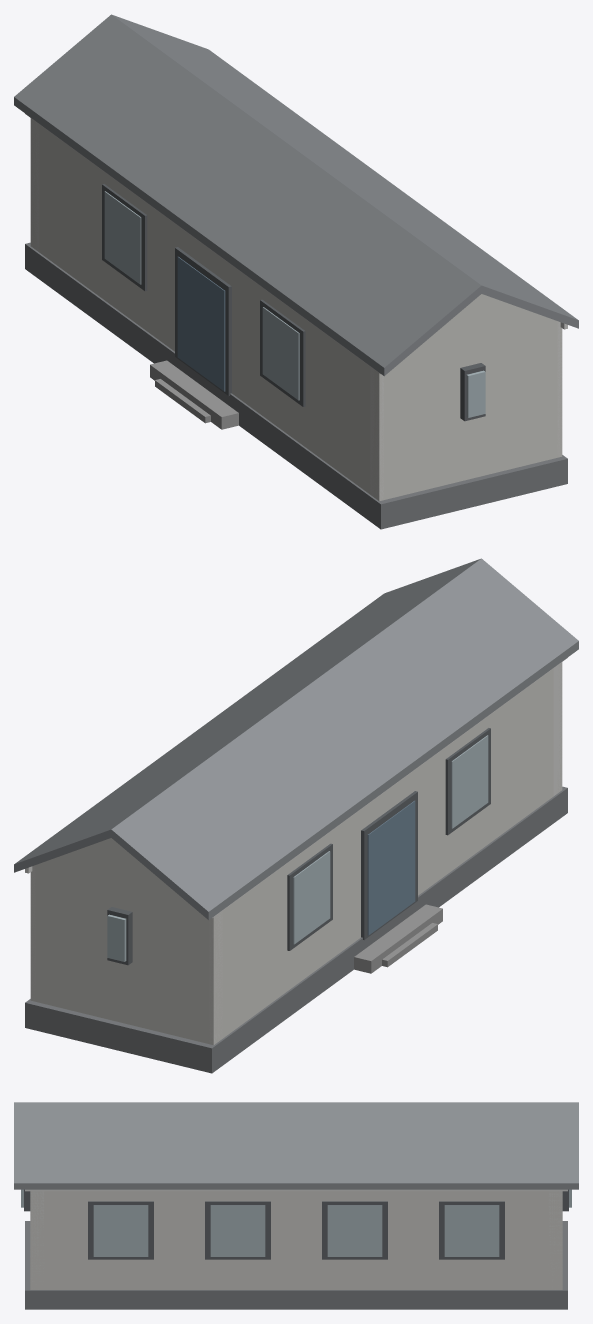
Rendered from lafortune-40.glb.
3 views of the same model, one above another, from view 1: azimuth 30°, elevation 25°; view 2: azimuth 150°, elevation 25°; view 3: azimuth 270°, elevation 25° (orthographic). The views are drawn at different scales.
Visible parts, largest first — view 1: world; view 2: world; view 3: world.
Boxes of the visible parts, x1,y1,x2,y2 form: world: (14,14,578,529); world: (14,558,578,1073); world: (14,1102,578,1309).
Size of the model in its own units: 4.06 by 4.11 by 12.19.
